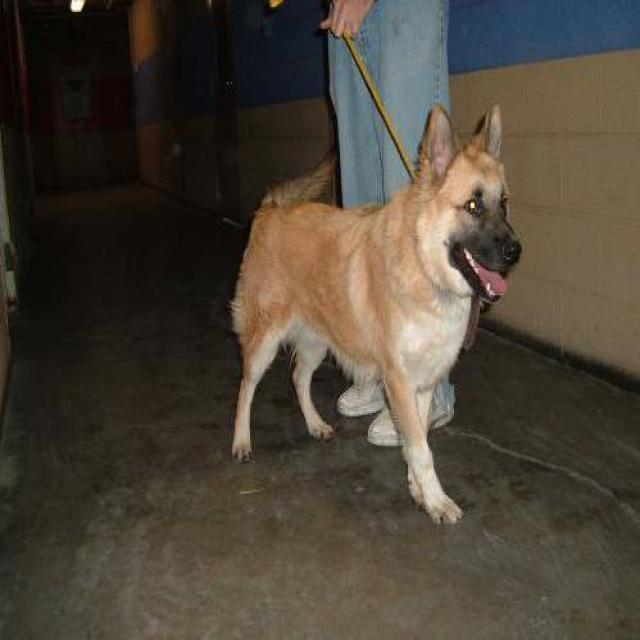dog: (228, 100, 522, 526)
